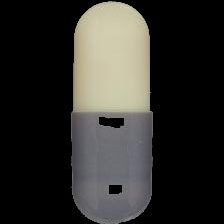21695-916: (0, 0, 224, 224)
